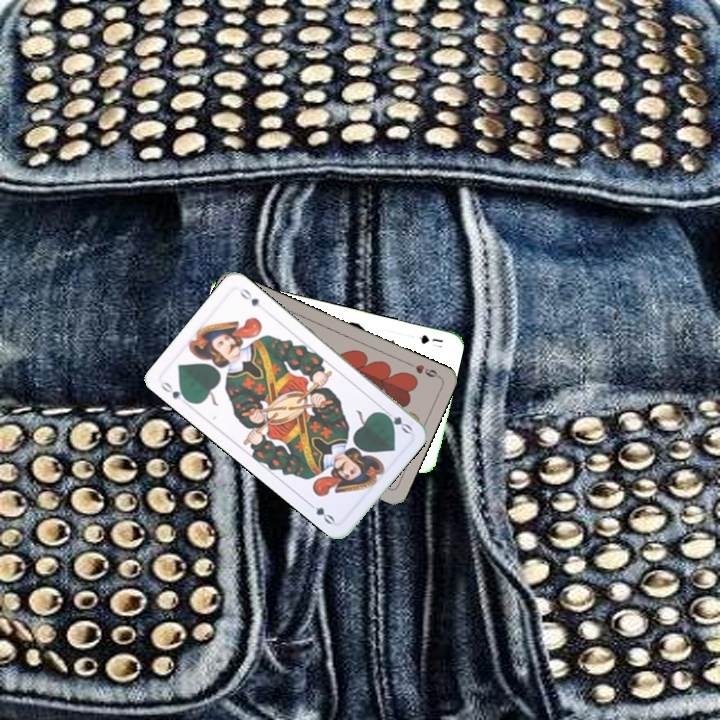GO: (377, 405, 415, 437), (156, 377, 193, 408)
GU: (415, 331, 445, 350)
H9: (403, 358, 442, 380)
